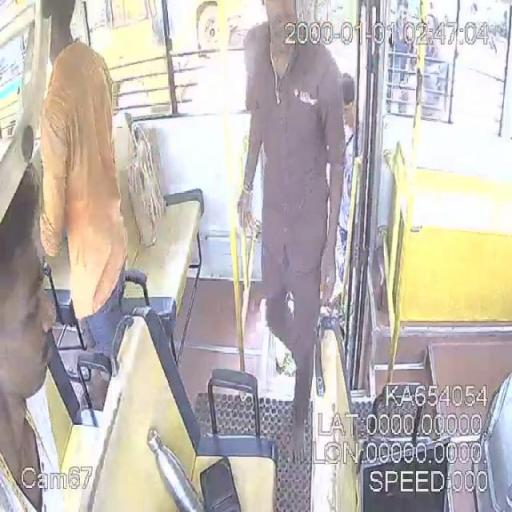persona: (235, 1, 348, 510), (236, 0, 348, 458), (38, 2, 128, 384), (3, 173, 74, 512)
